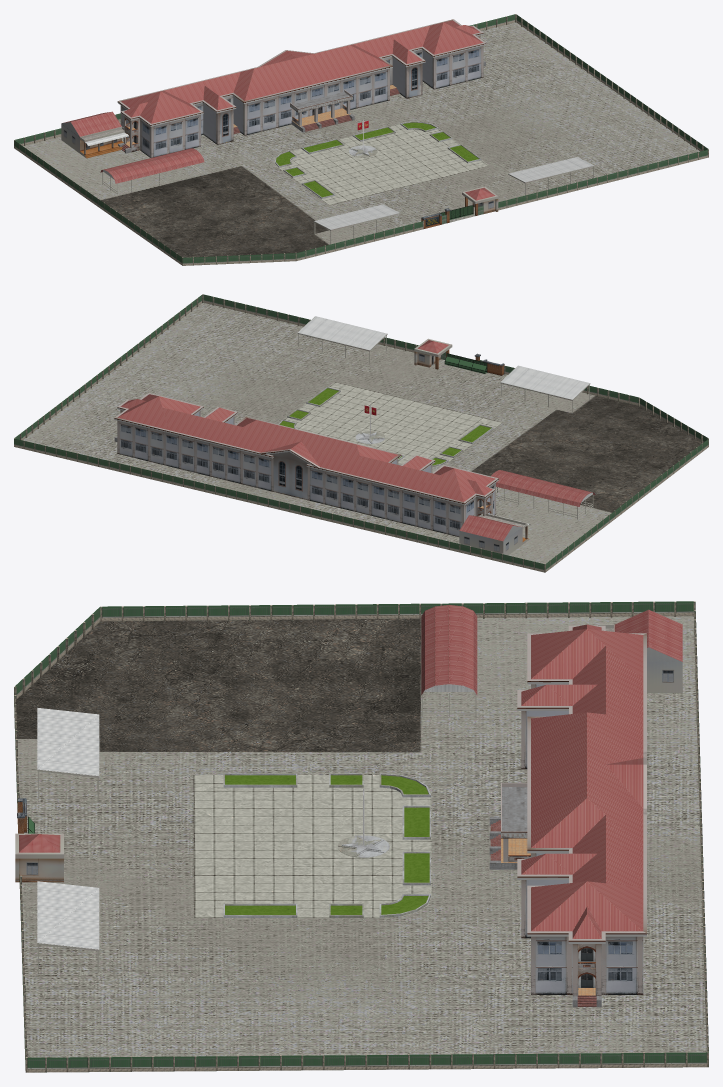
Rendered from PGDtpDX.glb.
The picture shows the model from 3 angles, top to bottom: view 1: azimuth 30°, elevation 25°; view 2: azimuth 150°, elevation 25°; view 3: azimuth 270°, elevation 25°; orthographic projection. The views are drawn at different scales.
Visible parts, largest first — view 1: Tuong_Nen, BPH052_PGDtpDX, NhaXungQuanh.001, NhaXungQuanh.002, NhaXungQuanh.003, NhaXungQuanh.004, Cong; view 2: Tuong_Nen, BPH052_PGDtpDX, NhaXungQuanh.001, NhaXungQuanh.002, NhaXungQuanh.003, NhaXungQuanh.004, Cong; view 3: Tuong_Nen, BPH052_PGDtpDX, NhaXungQuanh.002, NhaXungQuanh.003, NhaXungQuanh.004, NhaXungQuanh.001, Cong.
Part boxes in pixels (bbox=[...]): Tuong_Nen: bbox=[14, 14, 708, 265]; BPH052_PGDtpDX: bbox=[117, 19, 486, 157]; NhaXungQuanh.001: bbox=[61, 111, 128, 158]; NhaXungQuanh.002: bbox=[100, 148, 204, 195]; NhaXungQuanh.003: bbox=[314, 204, 400, 243]; NhaXungQuanh.004: bbox=[508, 157, 594, 195]; Cong: bbox=[421, 186, 498, 228]; Tuong_Nen: bbox=[14, 294, 708, 572]; BPH052_PGDtpDX: bbox=[114, 393, 498, 536]; NhaXungQuanh.001: bbox=[459, 513, 530, 555]; NhaXungQuanh.002: bbox=[491, 470, 595, 519]; NhaXungQuanh.003: bbox=[500, 365, 590, 412]; NhaXungQuanh.004: bbox=[297, 316, 387, 363]; Cong: bbox=[414, 338, 504, 375]; Tuong_Nen: bbox=[14, 601, 708, 1072]; BPH052_PGDtpDX: bbox=[489, 624, 646, 1007]; NhaXungQuanh.002: bbox=[421, 605, 477, 717]; NhaXungQuanh.003: bbox=[37, 707, 99, 799]; NhaXungQuanh.004: bbox=[37, 881, 99, 972]; NhaXungQuanh.001: bbox=[597, 609, 682, 692]; Cong: bbox=[15, 798, 63, 882].
Size of the model in its own units: 114 by 10.68 by 73.51.
7 materials, 7 textured.
